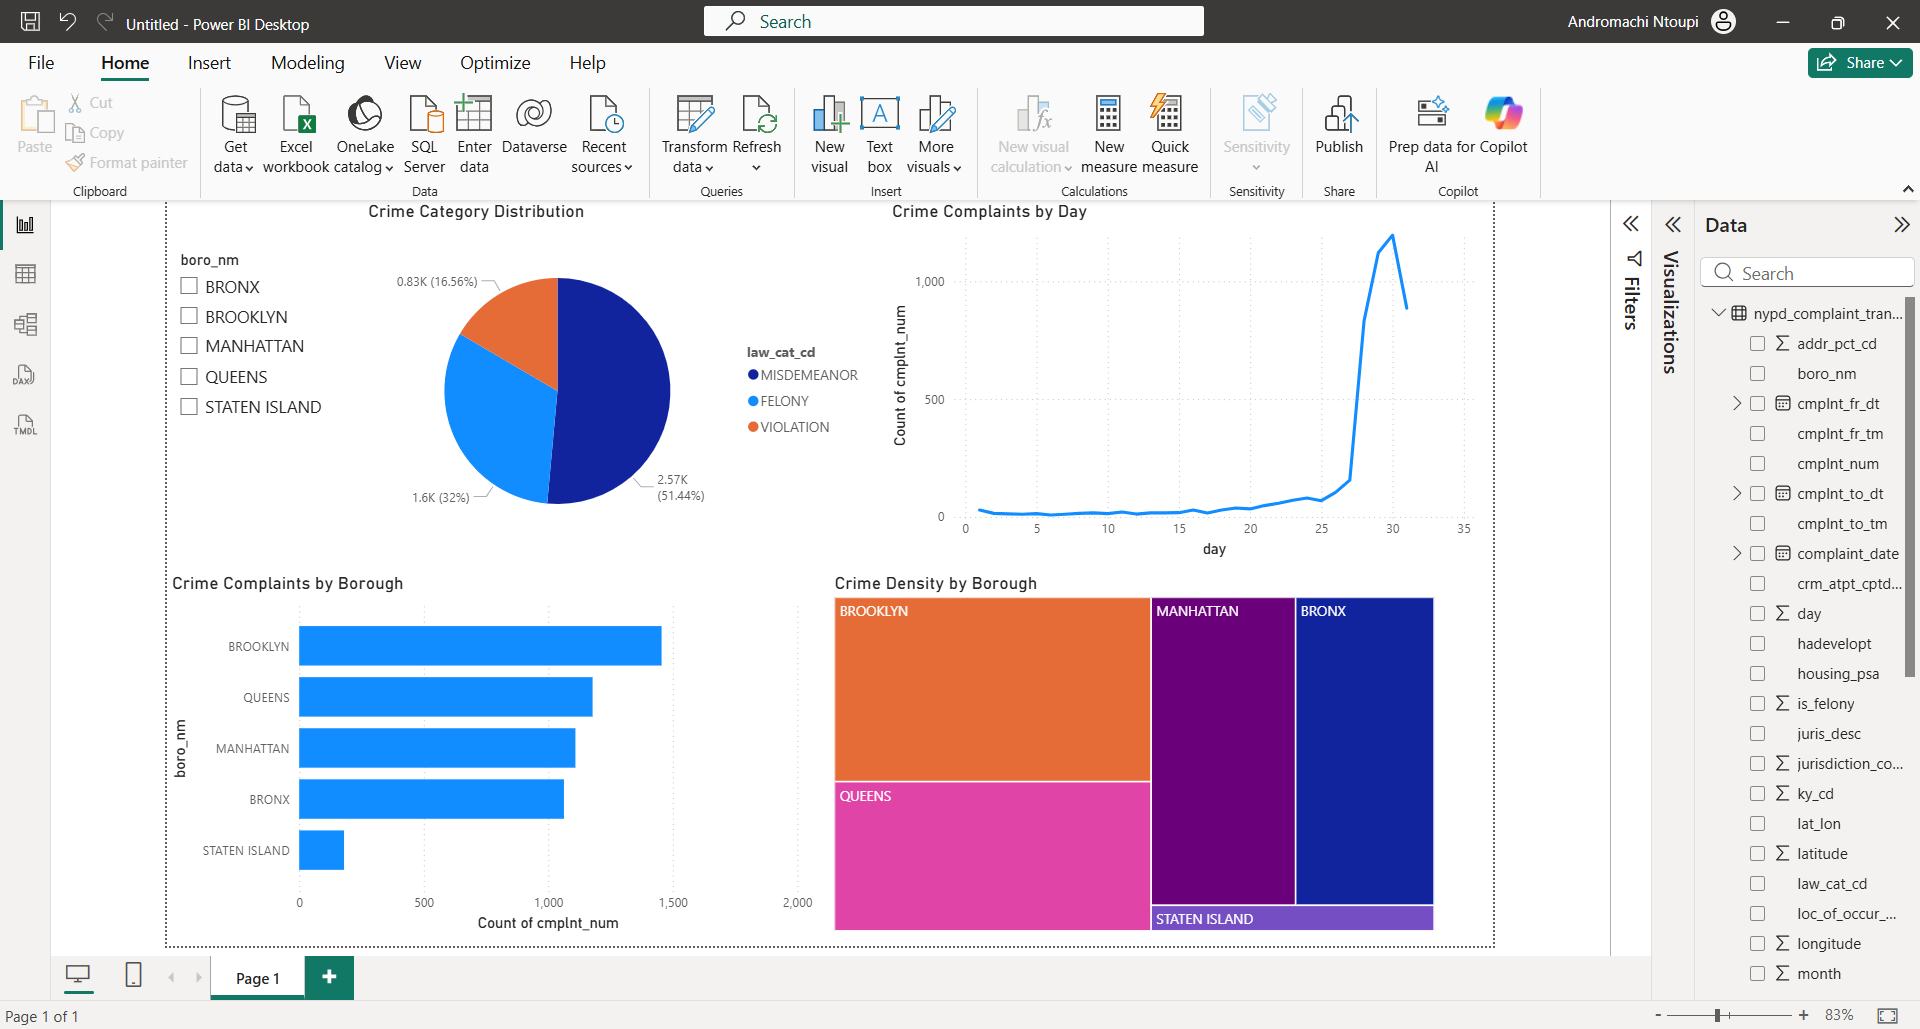

The dashboard page shown, as its layout file describes it:
{"tool":"powerbi","page":{"name":"Page 1","canvas":[1280,720],"ordinal":0},"visuals":[{"type":"pieChart","title":"Crime Category Distribution","fields":{"Category":["nypd_complaint_transformed.law_cat_cd"],"Y":["CountNonNull(nypd_complaint_transformed.law_cat_cd)"]},"box":[189.4,0,492.2,349.9],"z":0},{"type":"clusteredBarChart","title":"Crime Complaints by Borough","fields":{"Category":["nypd_complaint_transformed.boro_nm"],"Y":["CountNonNull(nypd_complaint_transformed.cmplnt_num)"]},"box":[0,359.5,628.6,351.1],"z":1},{"type":"lineChart","title":"Crime Complaints by Day","fields":{"Category":["nypd_complaint_transformed.day"],"Y":["CountNonNull(nypd_complaint_transformed.cmplnt_num)"]},"box":[694.9,0,571.9,349.9],"z":2},{"type":"slicer","fields":{"Values":["nypd_complaint_transformed.boro_nm"]},"box":[0,44.6,189.4,224.4],"z":3},{"type":"treemap","title":"Crime Density by Borough","fields":{"Group":["nypd_complaint_transformed.boro_nm"],"Values":["CountNonNull(nypd_complaint_transformed.cmplnt_num)"]},"box":[639.4,359.5,588.7,351.1],"z":4}]}

Visuals, with their boxes on the page's 1280x720 design canvas (x1, y1, x2, y2). These are canvas units, not pixel positions in the 1920x1029 screenshot, which may show the page scaled, cropped or inside an application window:
"Crime Category Distribution" pieChart: rect(189, 0, 682, 350)
"Crime Complaints by Borough" clusteredBarChart: rect(0, 360, 629, 711)
"Crime Complaints by Day" lineChart: rect(695, 0, 1267, 350)
slicer - nypd_complaint_transformed.boro_nm: rect(0, 45, 189, 269)
"Crime Density by Borough" treemap: rect(639, 360, 1228, 711)
